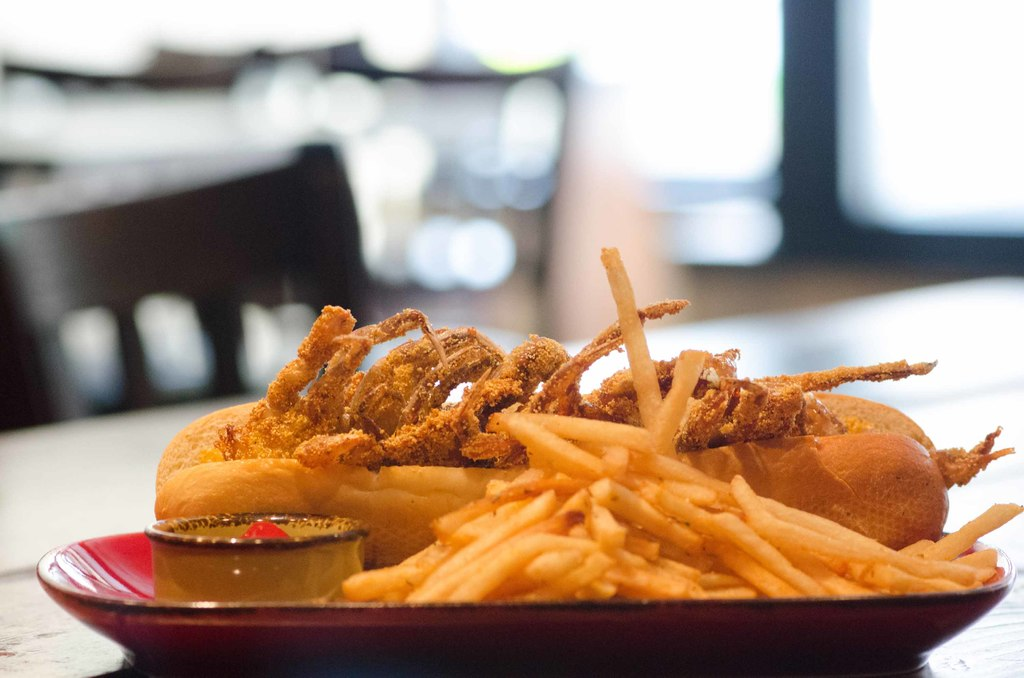French fries: (338, 236, 1023, 603)
